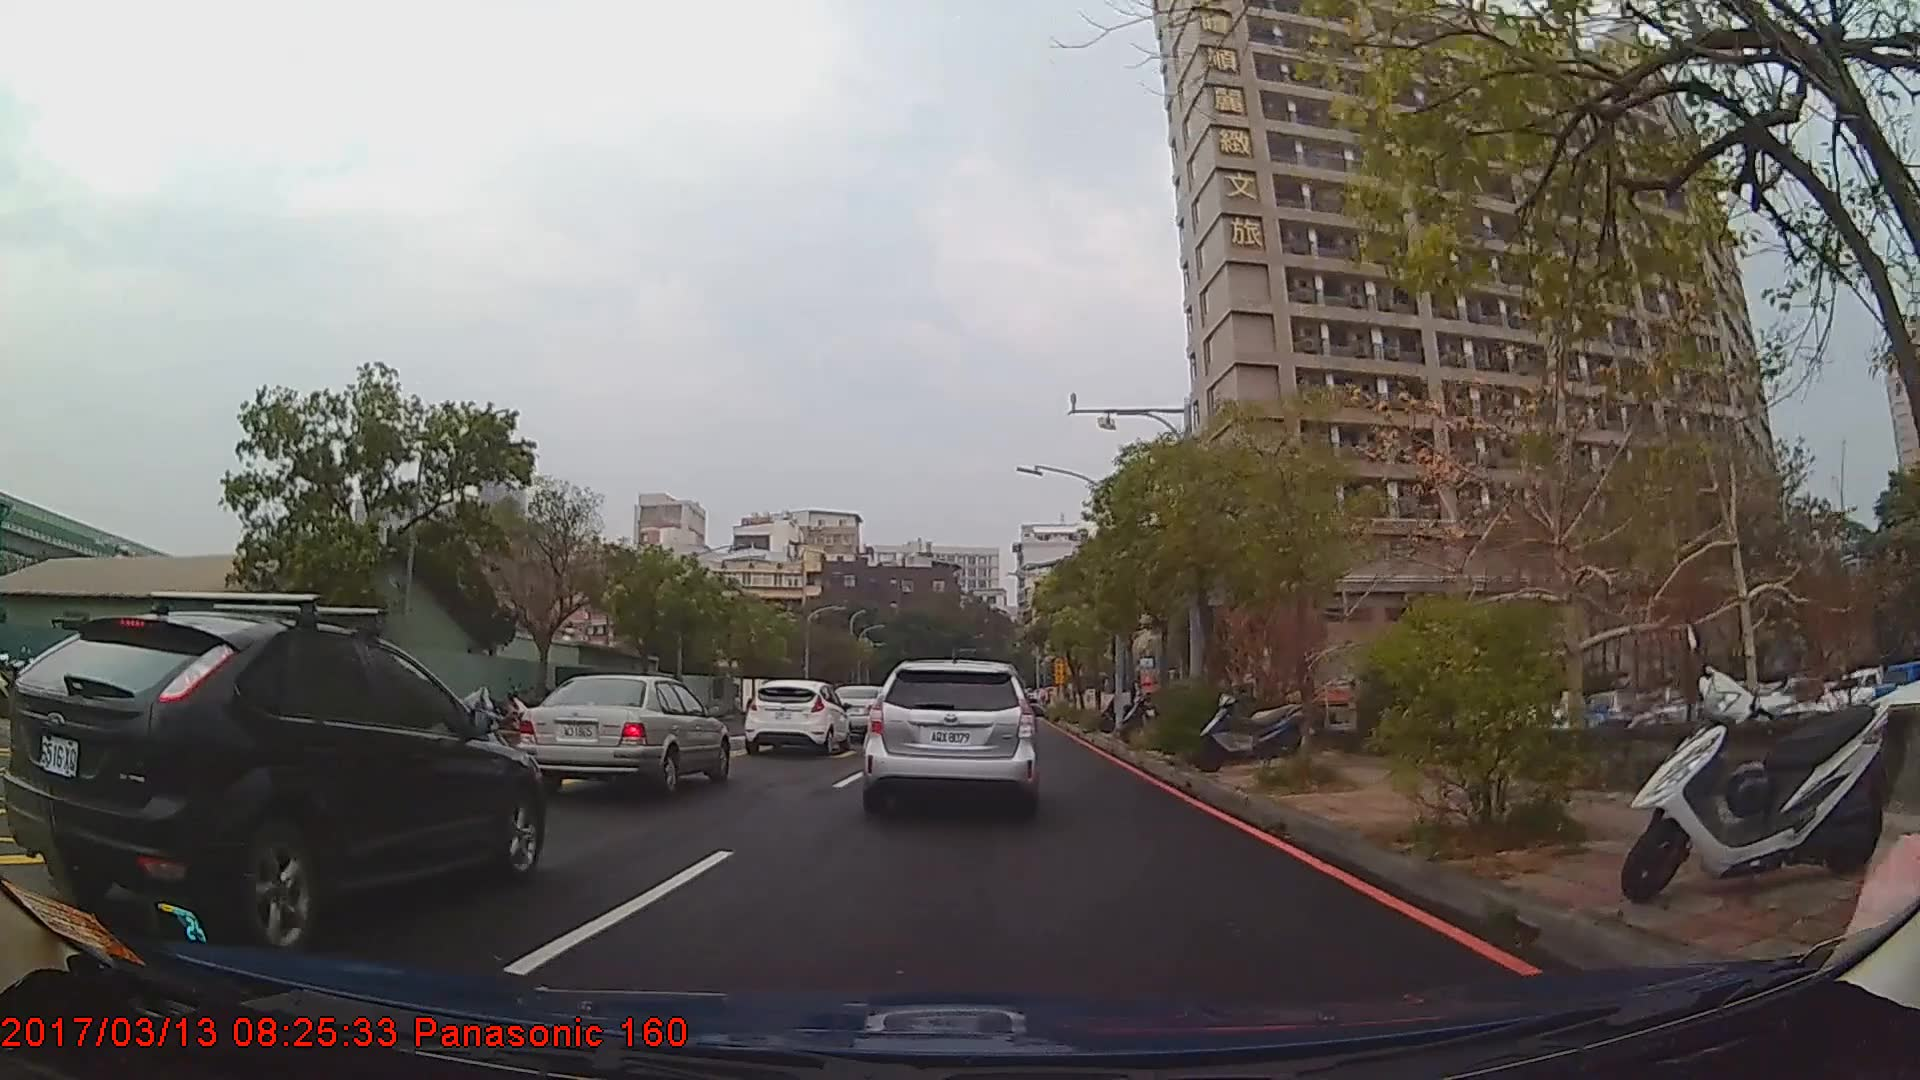vehicle: (7, 609, 542, 955), (861, 658, 1039, 815), (516, 673, 731, 796), (741, 680, 849, 756)
